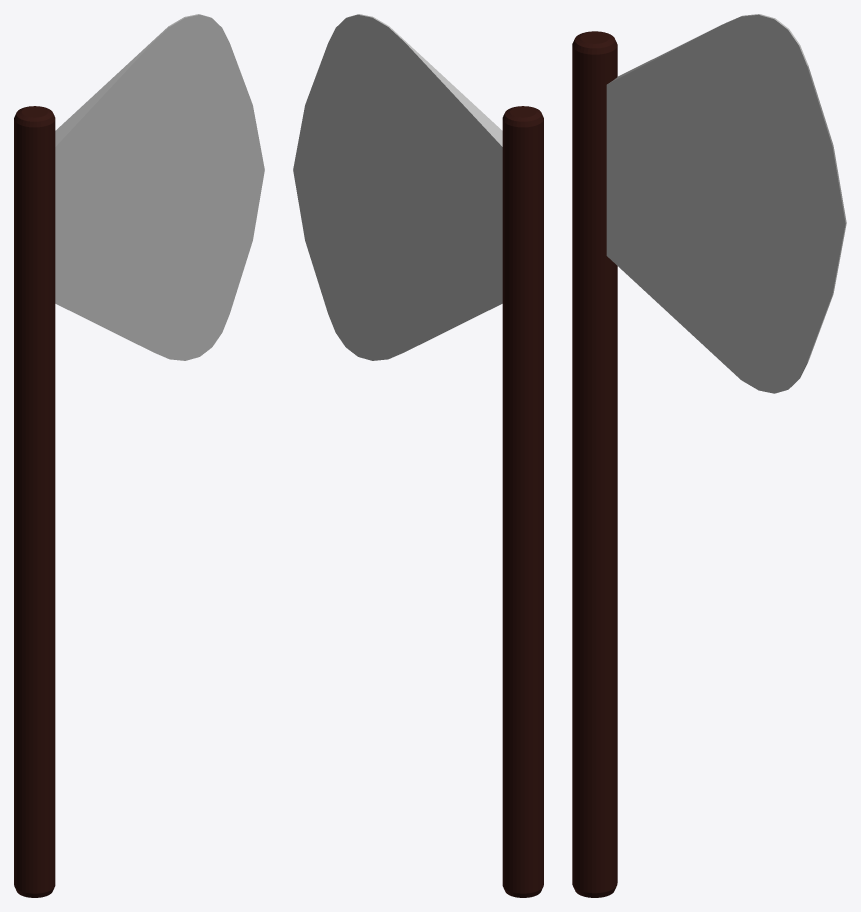
Rendered from Axe.fbx.
3 renders of one model, left to right at view 1: azimuth 30°, elevation 25°; view 2: azimuth 150°, elevation 25°; view 3: azimuth 330°, elevation 25°, orthographic. The views are drawn at different scales.
Visible parts, largest first — view 1: Cube, Cylinder; view 2: Cube, Cylinder; view 3: Cube, Cylinder.
Part boxes in pixels (x1,y1,x2,y2): Cube: [55, 14, 264, 360]; Cylinder: [14, 106, 55, 897]; Cube: [293, 14, 502, 360]; Cylinder: [502, 106, 543, 897]; Cube: [606, 14, 846, 393]; Cylinder: [572, 31, 617, 897].
Size of the model in its own units: 2558 by 8281 by 371.
